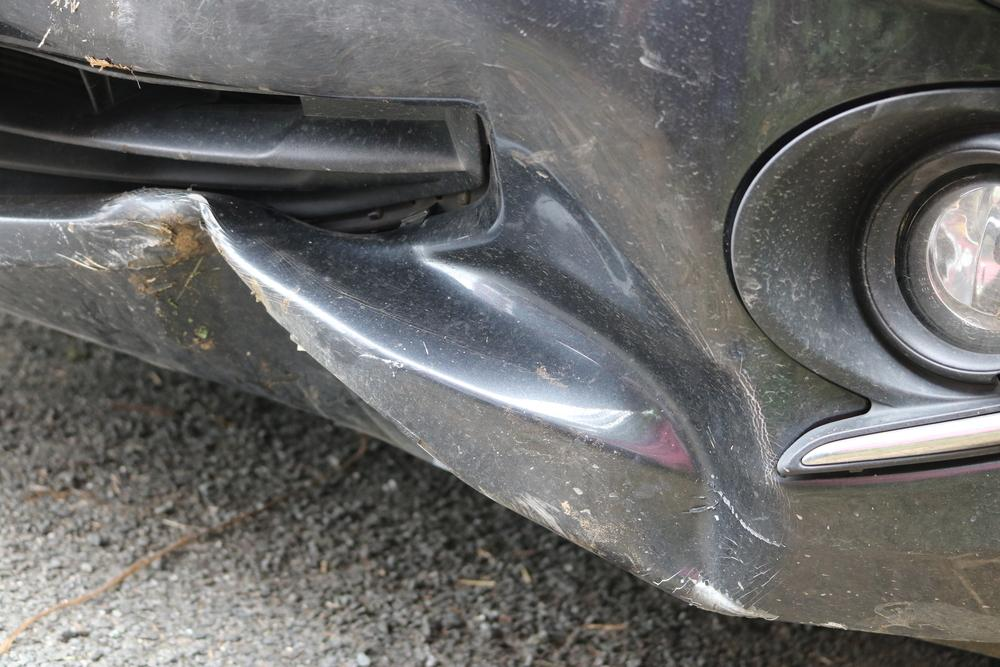dent: (219, 144, 759, 606)
